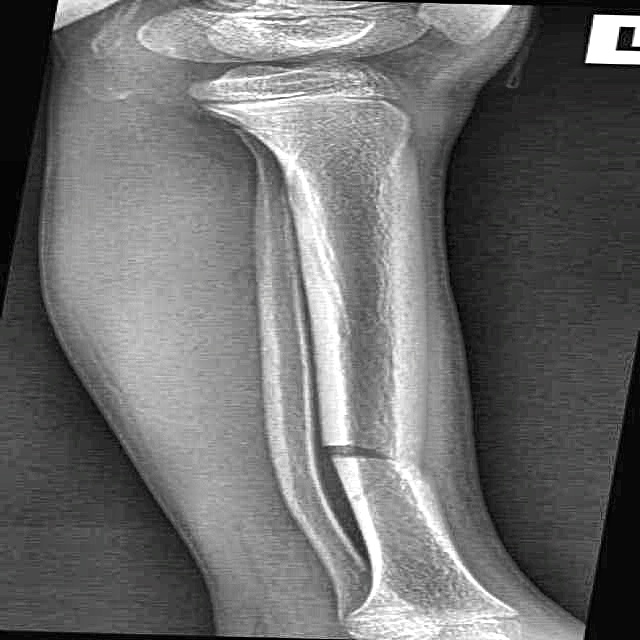Greenstick: (283, 411, 422, 489)
